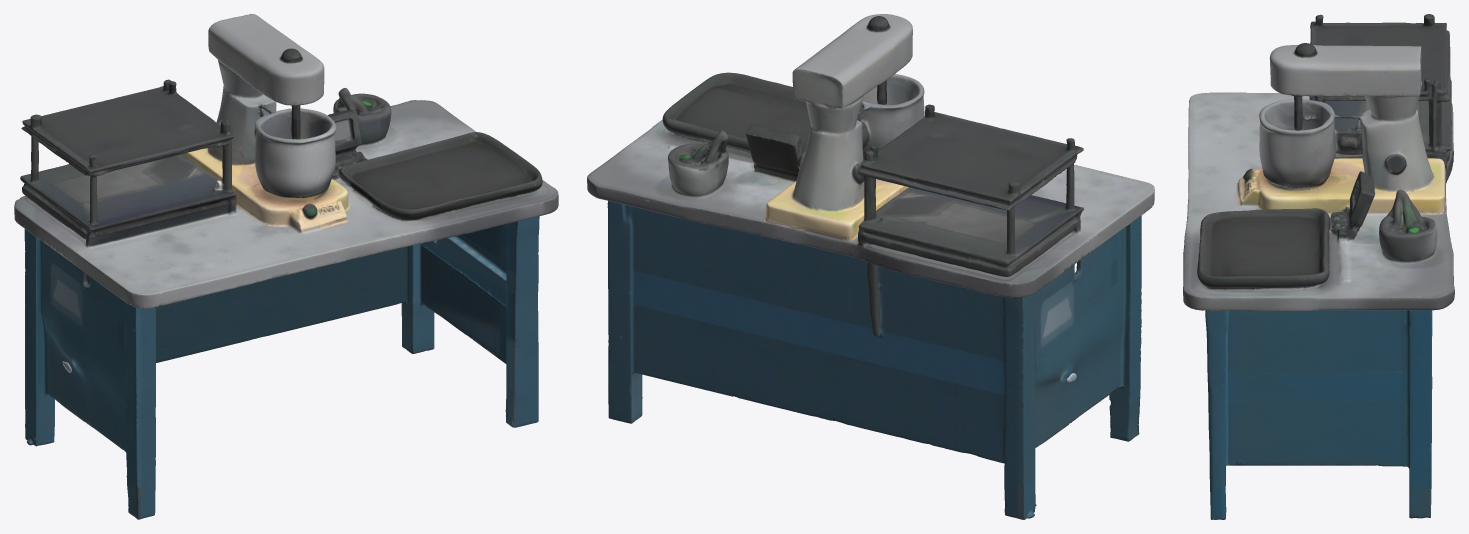
The model's file is Meshy_AI_Benchtop_lab_mixer_0618223146_texture.fbx.
The picture shows the model from 3 angles, left to right: view 1: azimuth 30°, elevation 25°; view 2: azimuth 150°, elevation 25°; view 3: azimuth 270°, elevation 25°; orthographic projection. The views are drawn at different scales.
Visible parts, largest first — view 1: Mesh_0; view 2: Mesh_0; view 3: Mesh_0.
Boxes of the visible parts, left/top/right/bottom form: Mesh_0: left=14, top=14, right=558, bottom=519; Mesh_0: left=587, top=14, right=1154, bottom=519; Mesh_0: left=1183, top=14, right=1454, bottom=519.
Bounding box in the file's own units: 200 × 174 × 112.
Materials: 1 (1 with a texture image).
